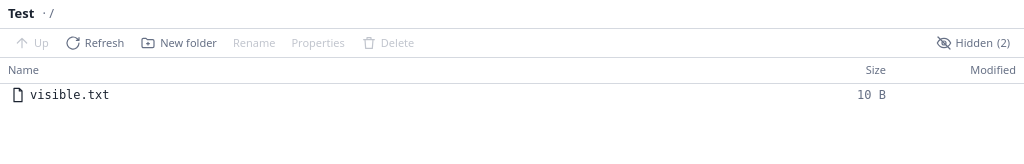
PaneView hidden-files toggle › hides dotfiles by default and reveals them when toggled
Expected: the text "visible.txt" is shown, [10,86,110,102]
Expected: the text ".env" is not shown
# Toggle shows them.
What coordinates should you click on to do the following:
click the button titled "Show hidden files"
I would click on:
 (973, 43)
Its box is [930,32,1016,53].
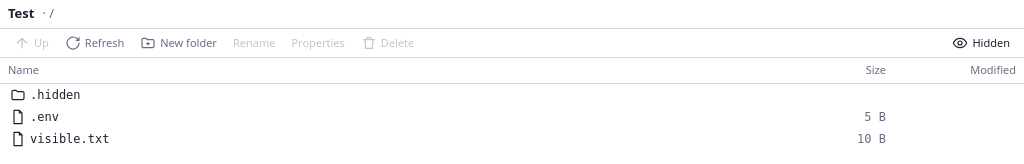
Expected: the text ".env" is shown, [10,108,59,124]
Expected: the text ".hidden" is shown, [10,86,81,102]
# Toggle again hides them.
What coordinates should you click on to do the following:
click the button titled "Hide dotfiles"
I would click on:
 (981, 43)
Its box is [946,32,1016,53].
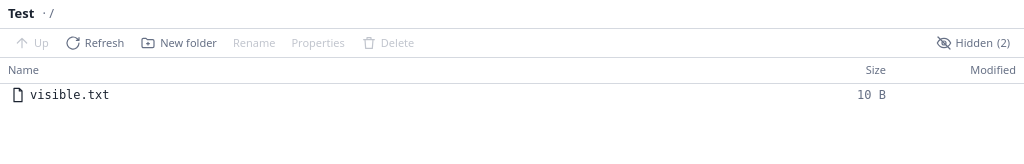
Expected: the option ".env" is gone
